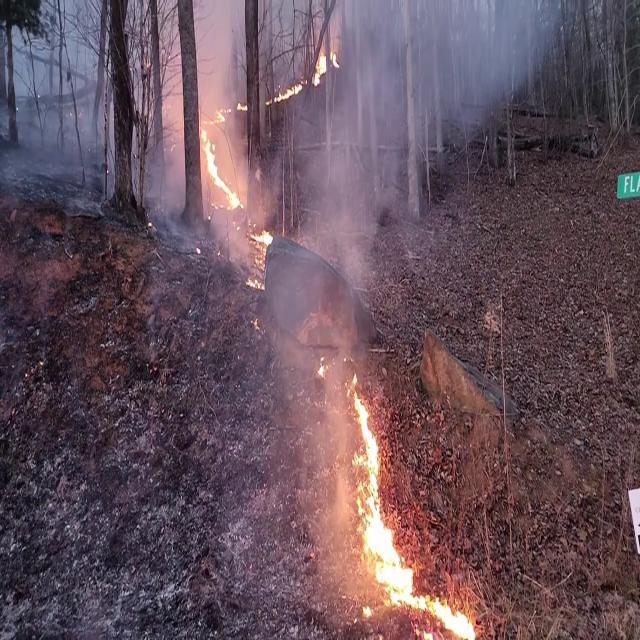Fire: (341, 372, 479, 638), (197, 102, 243, 214), (312, 46, 342, 85)
Smoke: (315, 0, 567, 140), (268, 143, 395, 379)
